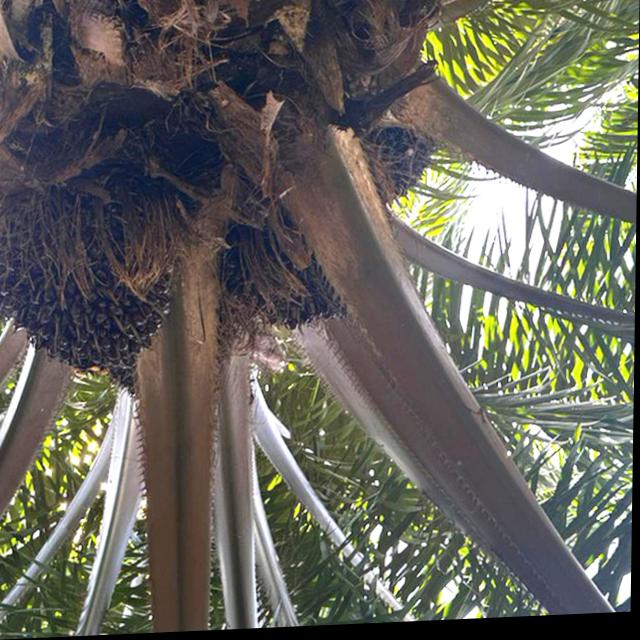almost: (0, 167, 185, 402), (215, 182, 357, 367)
